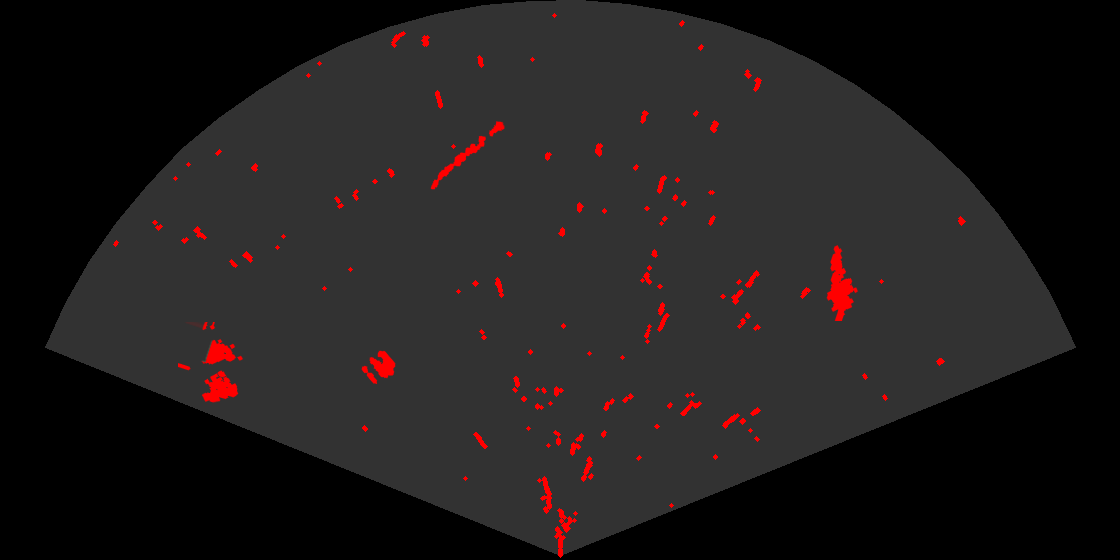ball: (360, 349, 397, 386)
cage: (178, 322, 245, 404)
chain: (429, 120, 506, 191)
frogman: (825, 244, 859, 321)
